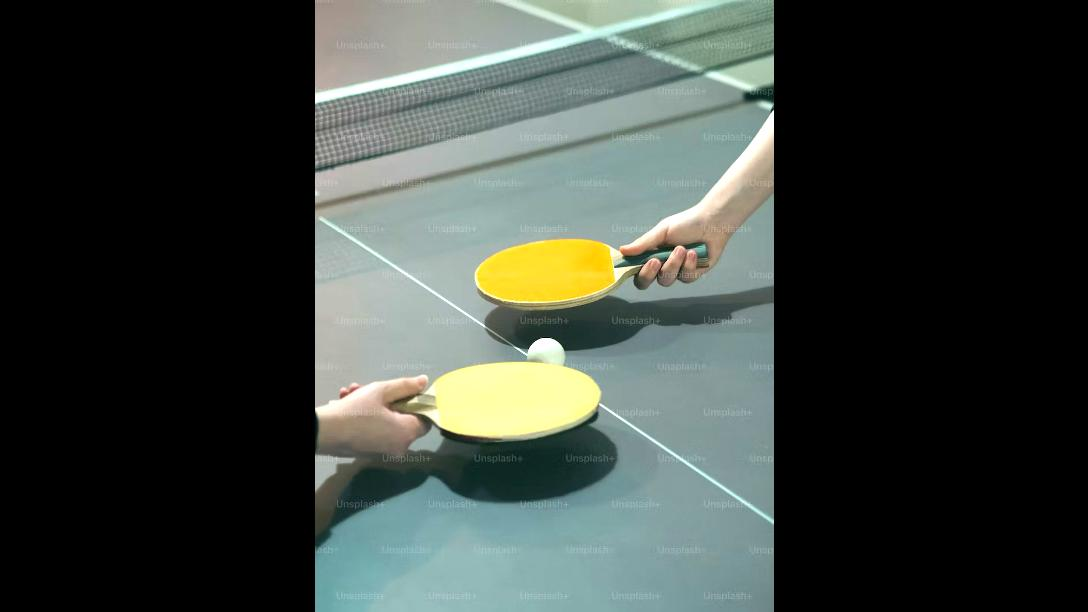Table-Tennis-Ball: (526, 338, 564, 366)
